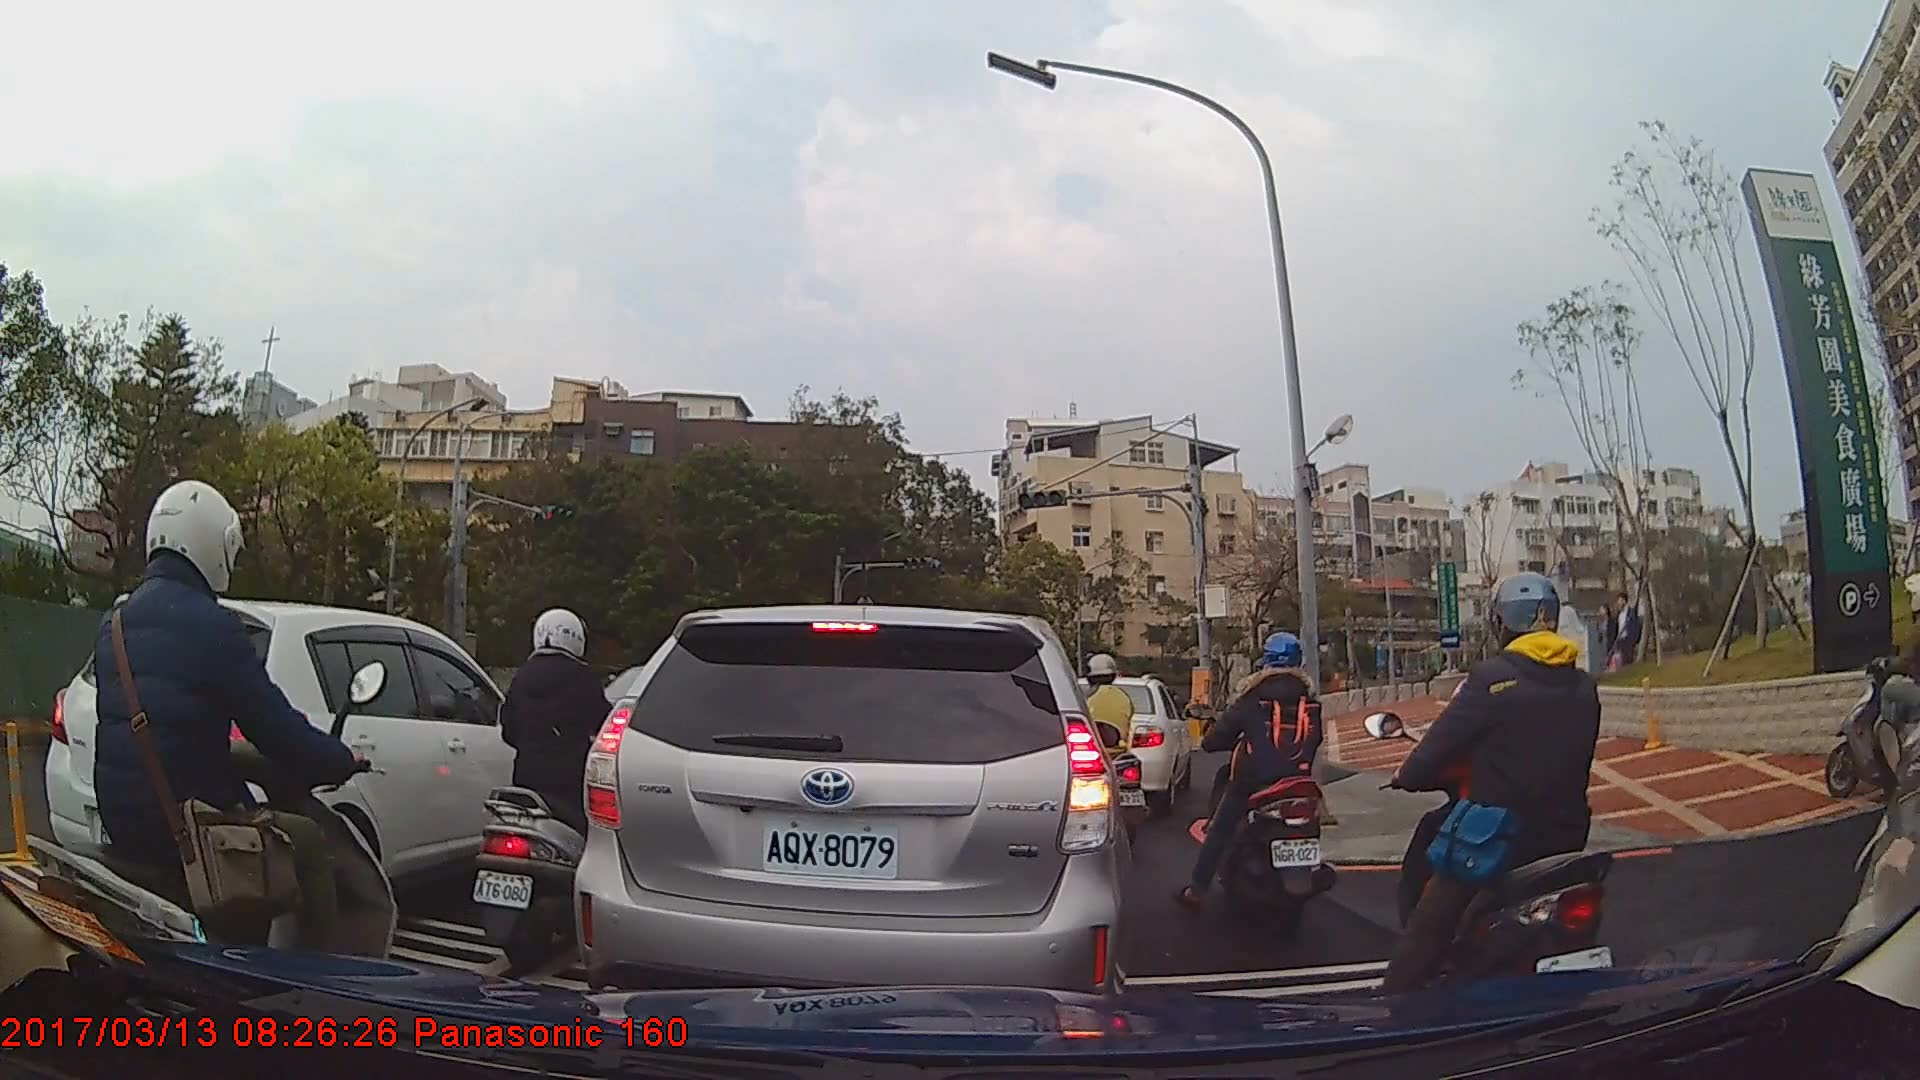pedestrian: (1605, 582, 1648, 678), (1587, 595, 1624, 687)
rider: (42, 482, 396, 1054), (1362, 571, 1624, 1033), (471, 606, 646, 972), (1177, 628, 1347, 943), (1058, 653, 1148, 844)
vehicle: (568, 601, 1139, 1033), (40, 591, 572, 929), (1046, 672, 1194, 818)
